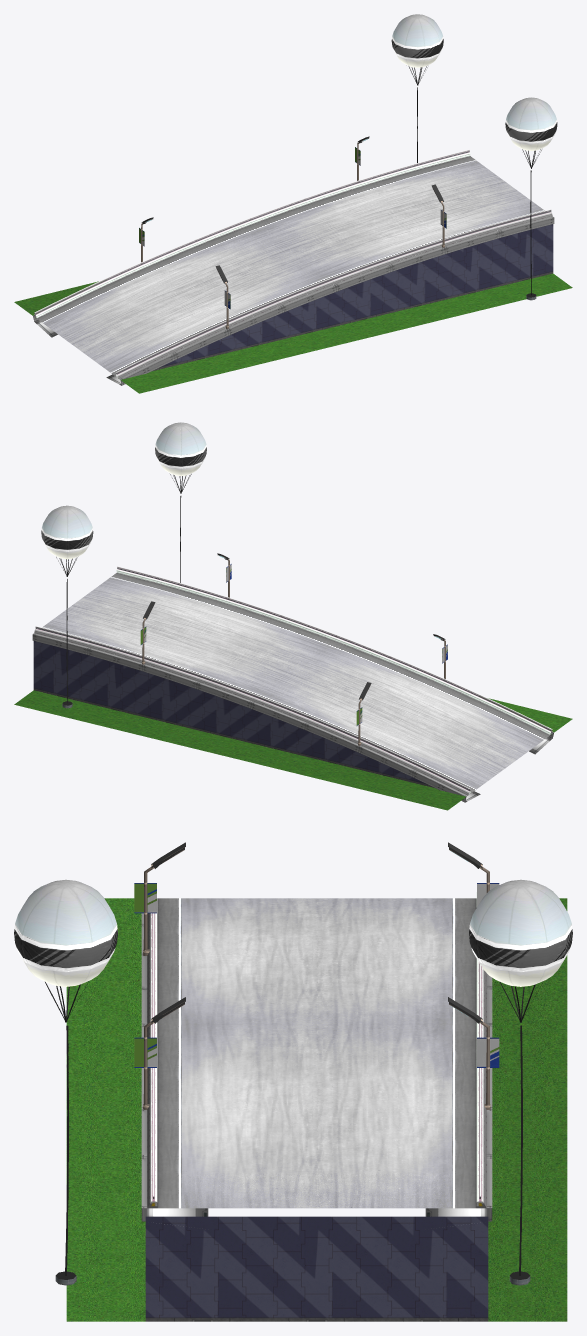
3 renders of one model, top to bottom at view 1: azimuth 30°, elevation 25°; view 2: azimuth 150°, elevation 25°; view 3: azimuth 270°, elevation 25°, orthographic. The views are drawn at different scales.
Visible parts, largest first — view 1: straight_road, retainer2, standard_ground_grass, barrier_elevated4, balloon_top, standard_bridge5; view 2: straight_road, retainer2, standard_ground_grass, barrier_elevated4, balloon_top, standard_bridge5; view 3: straight_road, standard_ground_grass, retainer2, balloon_top, barrier_elevated4, standard_bridge5, pro_streetlight_banners__4_, pro_streetlight_banners__7_, pro_streetlight_banners__6_, balloon_tether.
Part boxes in pixels (x1,y1,x2,y2): straight_road: (37,156,544,376); retainer2: (152,224,553,371); standard_ground_grass: (14,273,572,393); barrier_elevated4: (34,149,552,378); balloon_top: (391,14,557,168); standard_bridge5: (33,216,554,385); straight_road: (40,573,549,793); retainer2: (33,641,434,787); standard_ground_grass: (14,690,572,810); barrier_elevated4: (34,566,552,795); balloon_top: (41,422,206,576); standard_bridge5: (32,633,553,802); straight_road: (157,898,476,1208); standard_ground_grass: (66,898,567,1321); retainer2: (145,1216,488,1321); balloon_top: (14,879,572,1022); barrier_elevated4: (147,892,486,1208); standard_bridge5: (141,913,492,1229); pro_streetlight_banners__4_: (134,842,185,955); pro_streetlight_banners__7_: (134,997,185,1109); pro_streetlight_banners__6_: (448,997,499,1109); balloon_tether: (65,1025,522,1275).
Size of the model in its own units: 12840 by 5887 by 7142.
